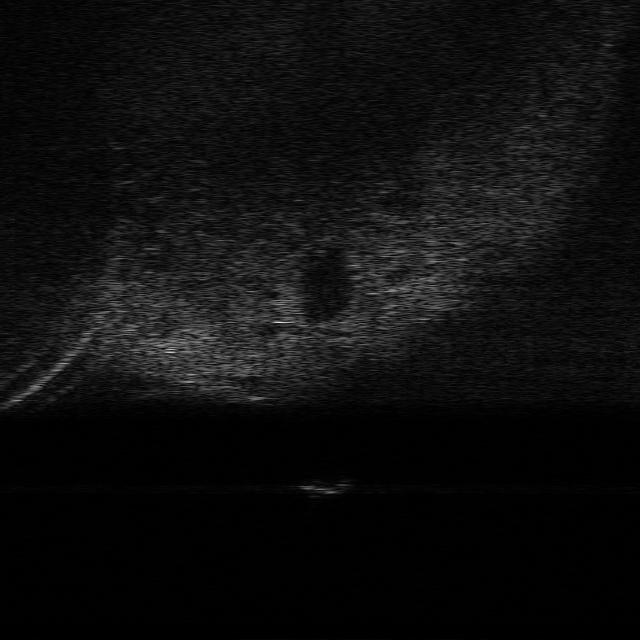cube: (301, 474, 361, 496)
